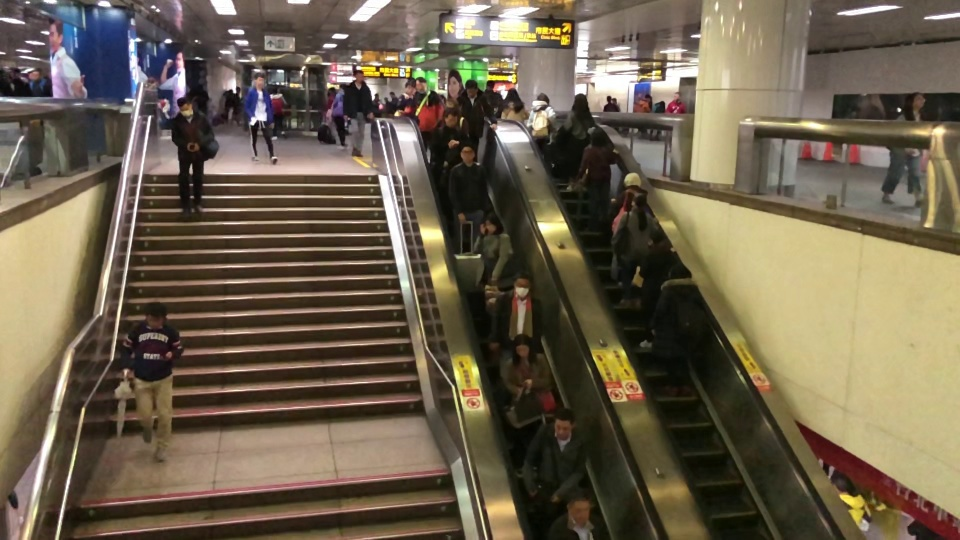person_head: (550, 407, 577, 442), (564, 496, 592, 526), (144, 300, 168, 330), (511, 333, 535, 358), (666, 261, 692, 284), (512, 271, 532, 299), (483, 211, 503, 235), (588, 127, 609, 148), (903, 92, 925, 111), (571, 91, 589, 114), (175, 96, 193, 118), (459, 143, 476, 166), (623, 170, 642, 189), (442, 108, 459, 128), (630, 192, 648, 209), (833, 476, 850, 494), (647, 228, 663, 246), (464, 79, 478, 98), (414, 77, 428, 93), (505, 86, 519, 102), (253, 72, 266, 89), (443, 97, 459, 110), (535, 92, 550, 105), (404, 79, 416, 95), (9, 67, 22, 79), (352, 69, 364, 82), (30, 68, 41, 81), (327, 86, 336, 98), (486, 79, 495, 91), (673, 91, 681, 102), (339, 82, 347, 92), (0, 69, 7, 80), (195, 83, 203, 92), (270, 86, 278, 94), (644, 93, 651, 102), (605, 95, 612, 103), (658, 99, 665, 107), (235, 86, 241, 95), (389, 91, 395, 98), (227, 88, 233, 94), (373, 93, 379, 99), (383, 95, 388, 102), (612, 97, 617, 104)
person_vbox: (119, 300, 185, 463), (520, 407, 588, 540), (648, 261, 708, 399), (498, 333, 553, 480), (486, 270, 543, 411), (878, 92, 931, 209), (611, 191, 660, 312), (169, 96, 214, 219), (428, 108, 476, 219), (575, 127, 622, 233), (637, 228, 677, 349), (447, 143, 488, 253), (555, 91, 596, 192), (399, 76, 444, 164), (456, 78, 498, 165), (243, 72, 278, 165), (473, 211, 514, 283), (342, 69, 375, 158), (526, 92, 558, 178), (547, 496, 607, 540), (833, 476, 872, 533), (609, 170, 649, 211), (665, 91, 687, 154), (440, 96, 469, 137), (331, 82, 348, 149), (268, 86, 288, 141), (500, 86, 529, 122), (323, 86, 340, 146), (906, 518, 947, 540), (393, 79, 416, 114), (483, 79, 503, 119), (633, 93, 651, 135), (186, 83, 209, 115), (9, 66, 31, 98), (601, 95, 618, 132), (29, 68, 51, 96), (230, 85, 243, 127), (218, 88, 233, 124), (650, 99, 665, 135), (0, 69, 14, 97), (372, 92, 382, 117), (383, 95, 395, 114), (612, 97, 621, 112), (389, 91, 398, 103)
